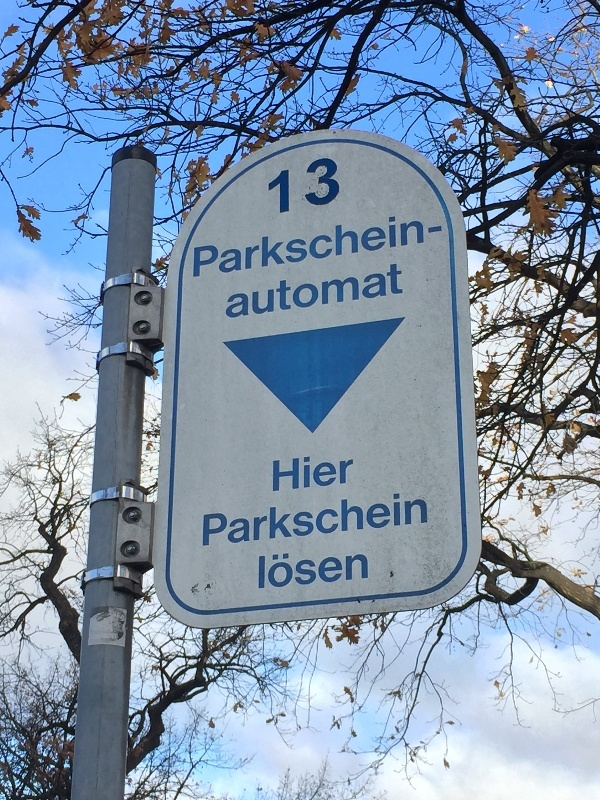text: (209, 209, 224, 280), (225, 209, 240, 280), (241, 209, 256, 280), (257, 209, 272, 280), (273, 209, 288, 280), (289, 209, 304, 280), (305, 209, 320, 280), (321, 209, 336, 280), (337, 209, 352, 280), (353, 209, 368, 280), (369, 209, 384, 280), (385, 209, 400, 280), (401, 209, 416, 280), (417, 209, 432, 280), (194, 209, 208, 280), (273, 155, 288, 216), (289, 155, 304, 216), (305, 155, 320, 216), (321, 155, 336, 216), (241, 263, 256, 322), (257, 263, 272, 322), (273, 263, 288, 322), (289, 263, 304, 322), (305, 263, 320, 322), (321, 263, 336, 322), (337, 263, 352, 322), (353, 263, 368, 322), (369, 263, 384, 322), (385, 263, 400, 322), (209, 490, 224, 547), (225, 490, 240, 547), (241, 490, 256, 547), (257, 490, 272, 547), (273, 490, 288, 547), (289, 490, 304, 547), (305, 490, 320, 547), (321, 490, 336, 547), (337, 490, 352, 547), (353, 490, 368, 547), (369, 490, 384, 547), (385, 490, 400, 547), (401, 490, 416, 547), (227, 263, 240, 322), (353, 544, 369, 590), (433, 209, 443, 280), (273, 544, 288, 590), (289, 544, 304, 590), (305, 544, 320, 590), (321, 544, 336, 590), (337, 544, 352, 590), (273, 451, 288, 493), (289, 451, 304, 493), (305, 451, 320, 493), (321, 451, 336, 493), (337, 451, 352, 493), (417, 490, 428, 547), (259, 544, 272, 590), (203, 490, 208, 547), (269, 155, 272, 216), (337, 155, 340, 216), (401, 263, 404, 322), (353, 451, 355, 493)
